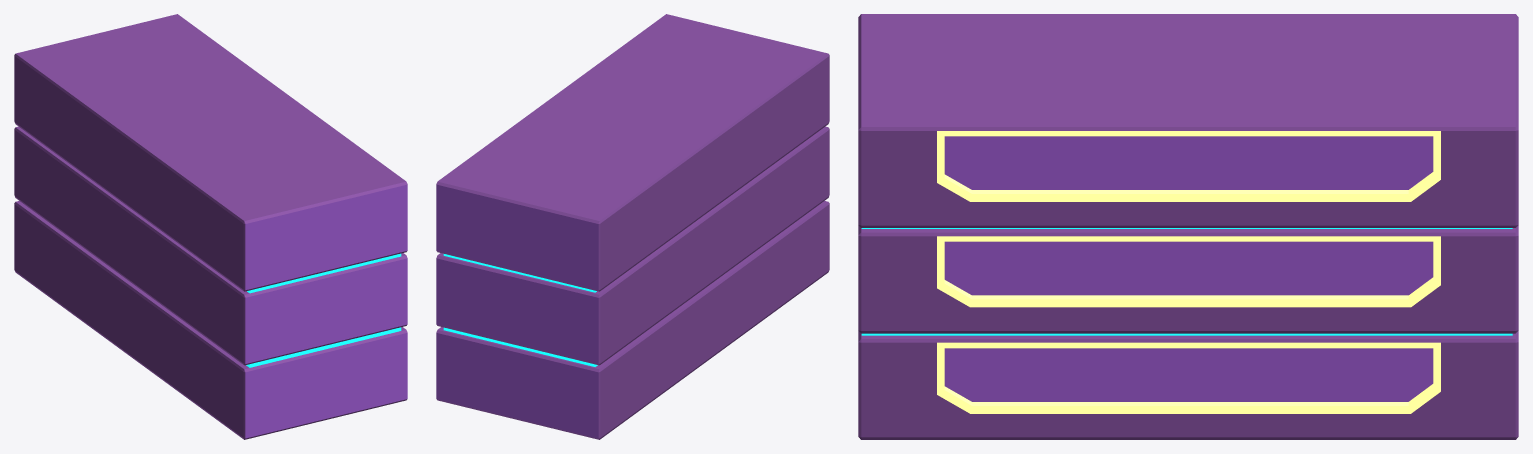
The model's file is dresser_tier19.fbx.
The picture shows the model from 3 angles, left to right: view 1: azimuth 30°, elevation 25°; view 2: azimuth 150°, elevation 25°; view 3: azimuth 270°, elevation 25°; orthographic projection. The views are drawn at different scales.
Parts seen in each view (by area): view 1: Cube.006, Cube.004, Cube.003, Cube.001; view 2: Cube.006, Cube.004, Cube.003, Cube.001; view 3: Cube.006, Cube.004, Cube.003, Cube.001.
Boxes of the visible parts, left/top/right/bottom form: Cube.006: left=14, top=14, right=407, bottom=291; Cube.004: left=14, top=201, right=407, bottom=439; Cube.003: left=14, top=126, right=407, bottom=365; Cube.001: left=246, top=253, right=401, bottom=367; Cube.006: left=436, top=14, right=829, bottom=291; Cube.004: left=436, top=201, right=829, bottom=439; Cube.003: left=436, top=126, right=829, bottom=365; Cube.001: left=443, top=254, right=597, bottom=366; Cube.006: left=858, top=14, right=1518, bottom=227; Cube.004: left=858, top=331, right=1518, bottom=439; Cube.003: left=858, top=225, right=1518, bottom=333; Cube.001: left=861, top=228, right=1512, bottom=335.
Bounding box in the file's own units: 88.57 × 113 × 216.
